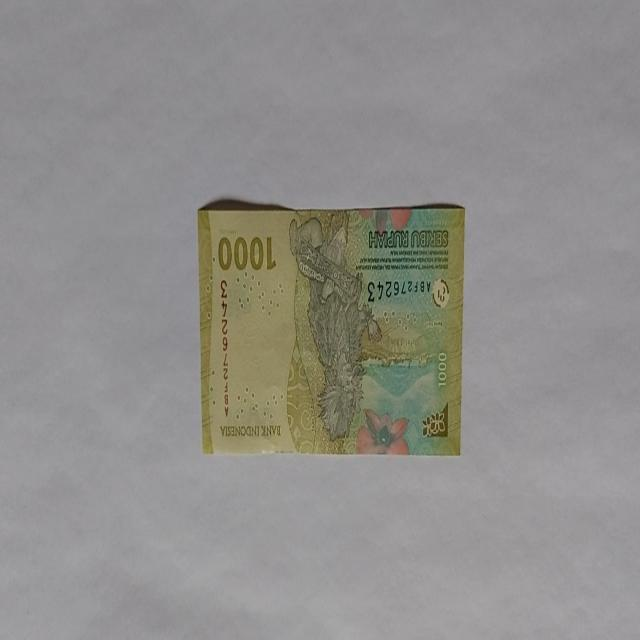seribu rupiah kertas: (197, 201, 466, 457)
